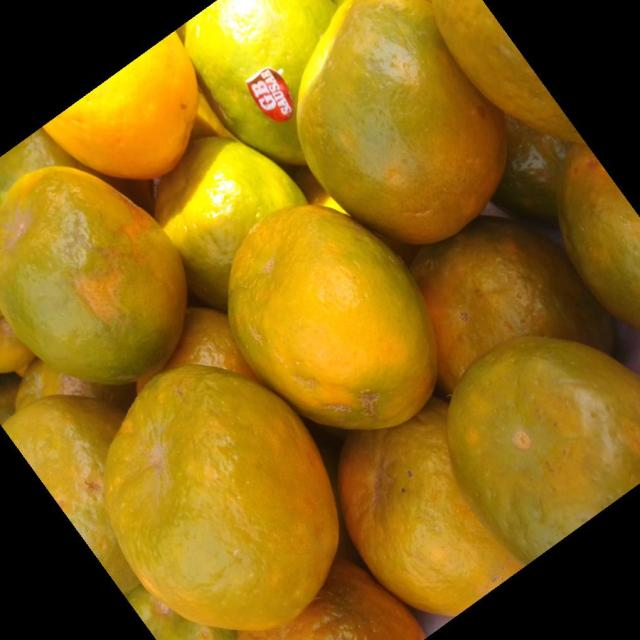fresh orange: (3, 4, 640, 640), (312, 389, 598, 640), (102, 363, 340, 631), (419, 320, 640, 566), (295, 0, 508, 244), (226, 203, 438, 429), (1, 167, 187, 385), (5, 393, 147, 603), (186, 2, 343, 166), (156, 138, 304, 310), (43, 29, 199, 179), (432, 0, 588, 146), (558, 140, 636, 336), (140, 308, 266, 402)
